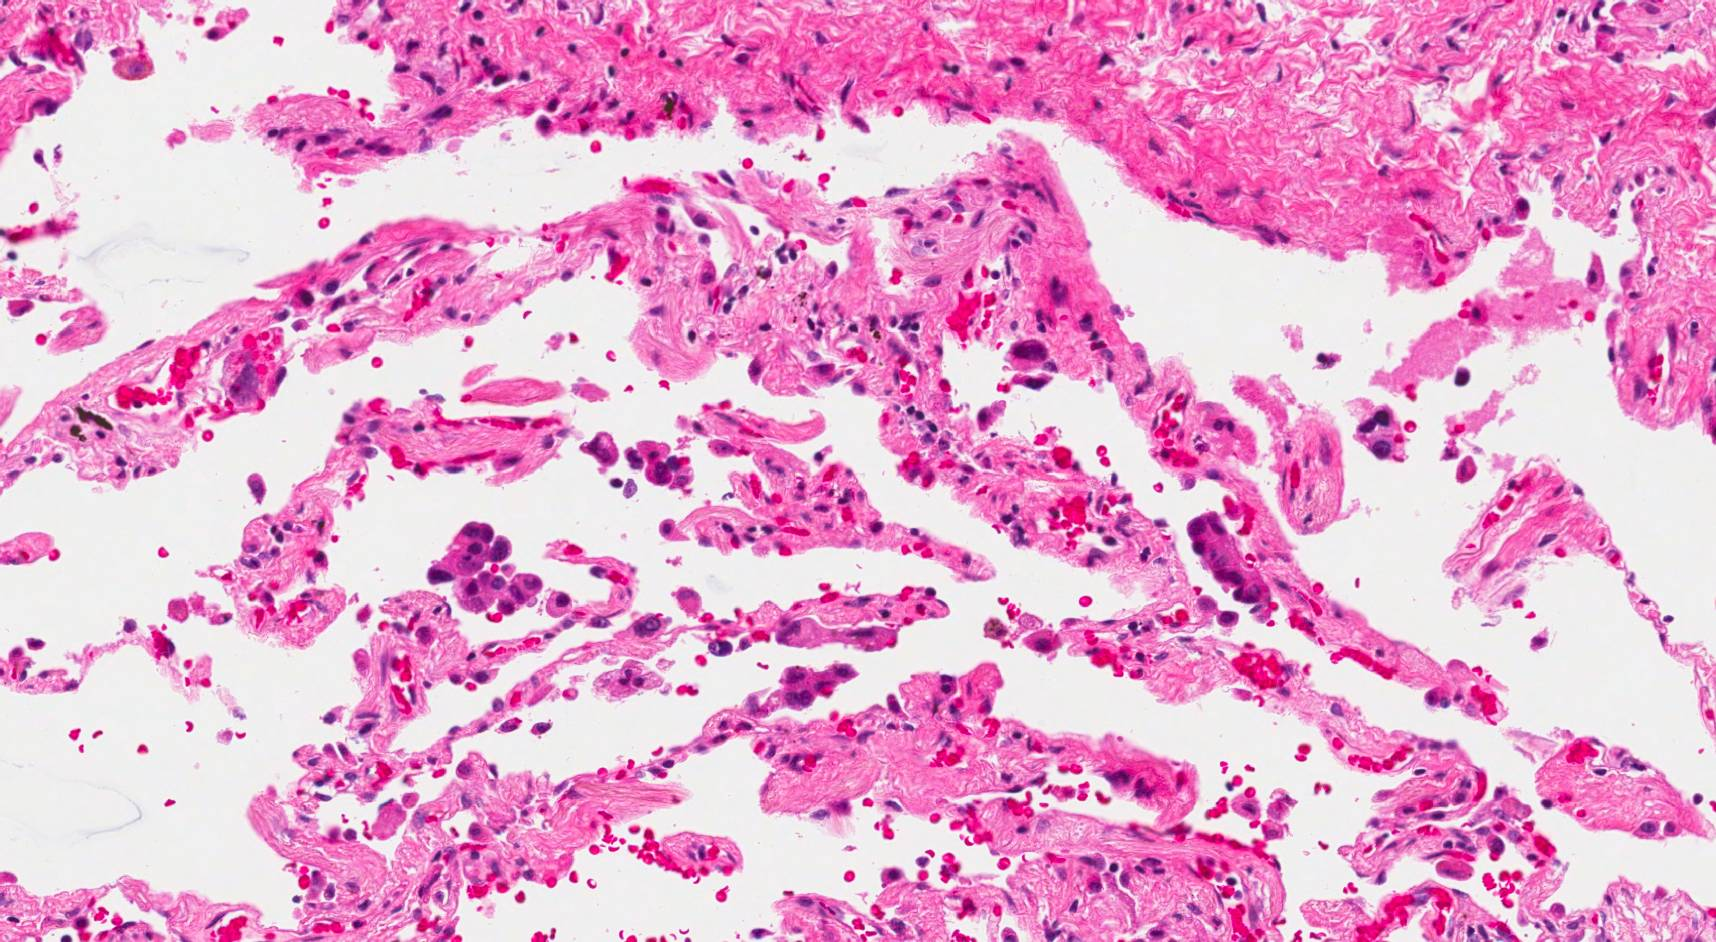stas: (425, 521, 541, 620), (1182, 509, 1277, 625), (1350, 400, 1413, 465), (777, 661, 860, 710)
